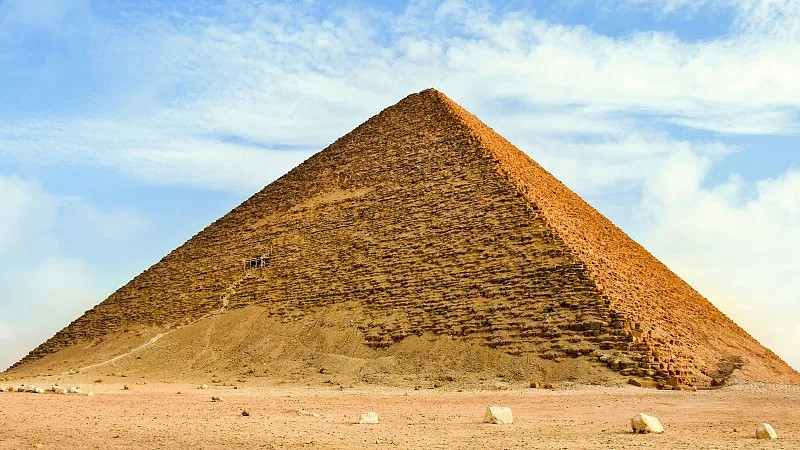Pyramid: (1, 90, 798, 384)
